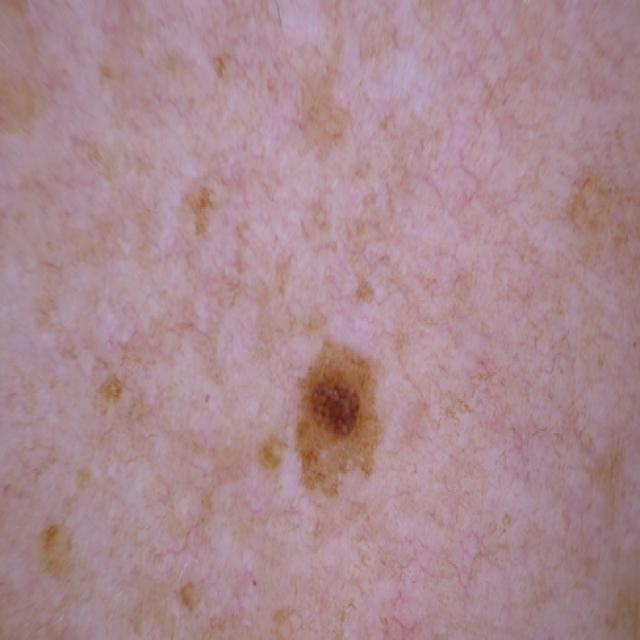Keratosis: (260, 306, 447, 541)
